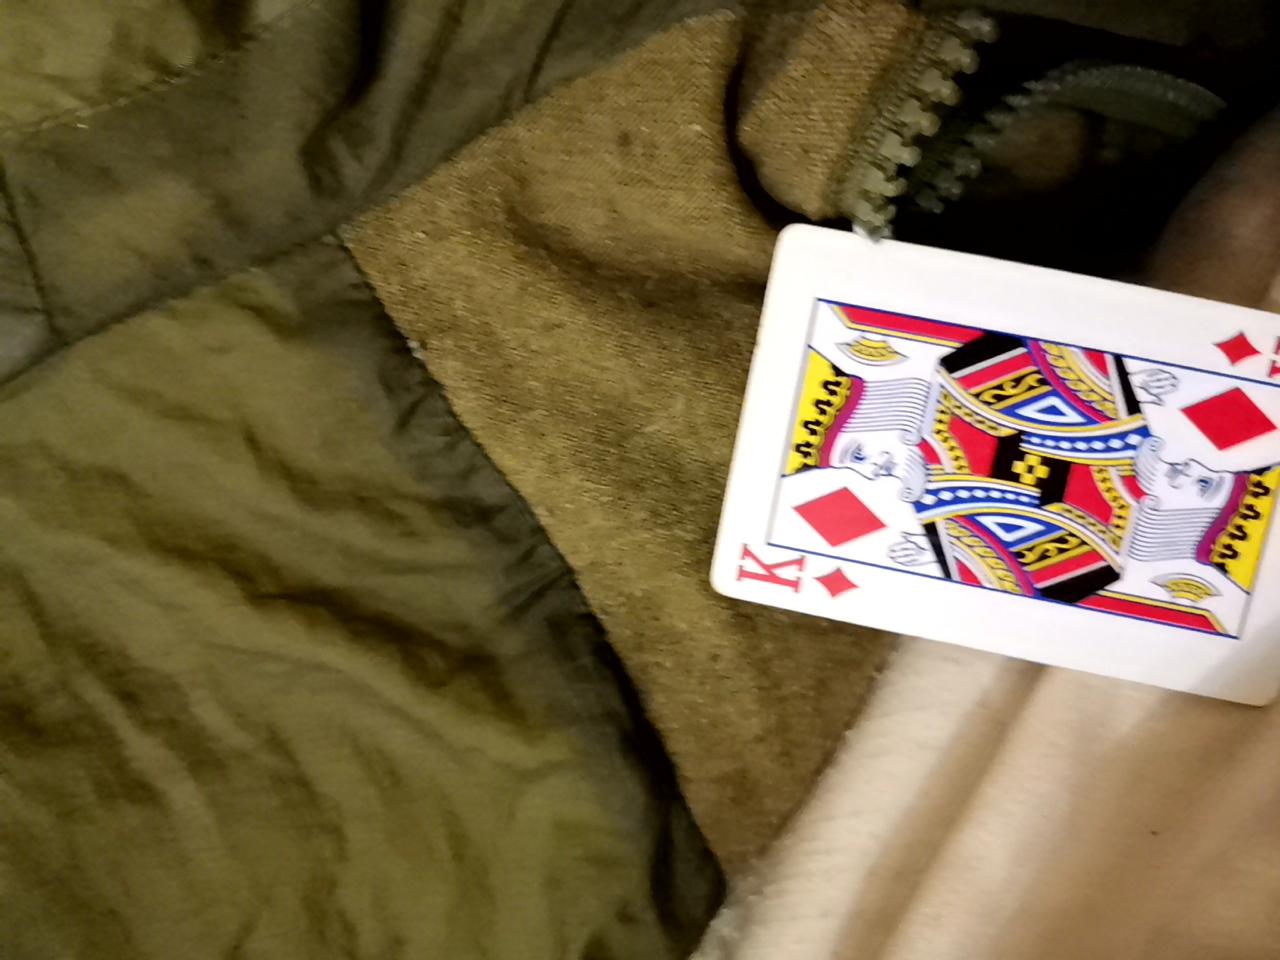fk k: (670, 214, 1266, 699)
